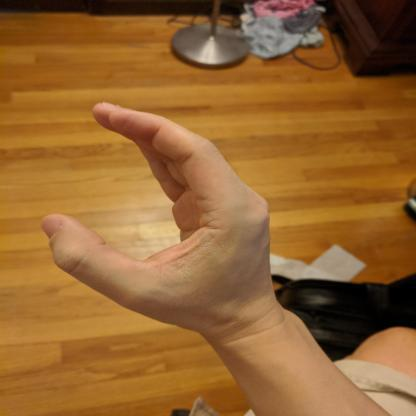C: (41, 102, 274, 331)
